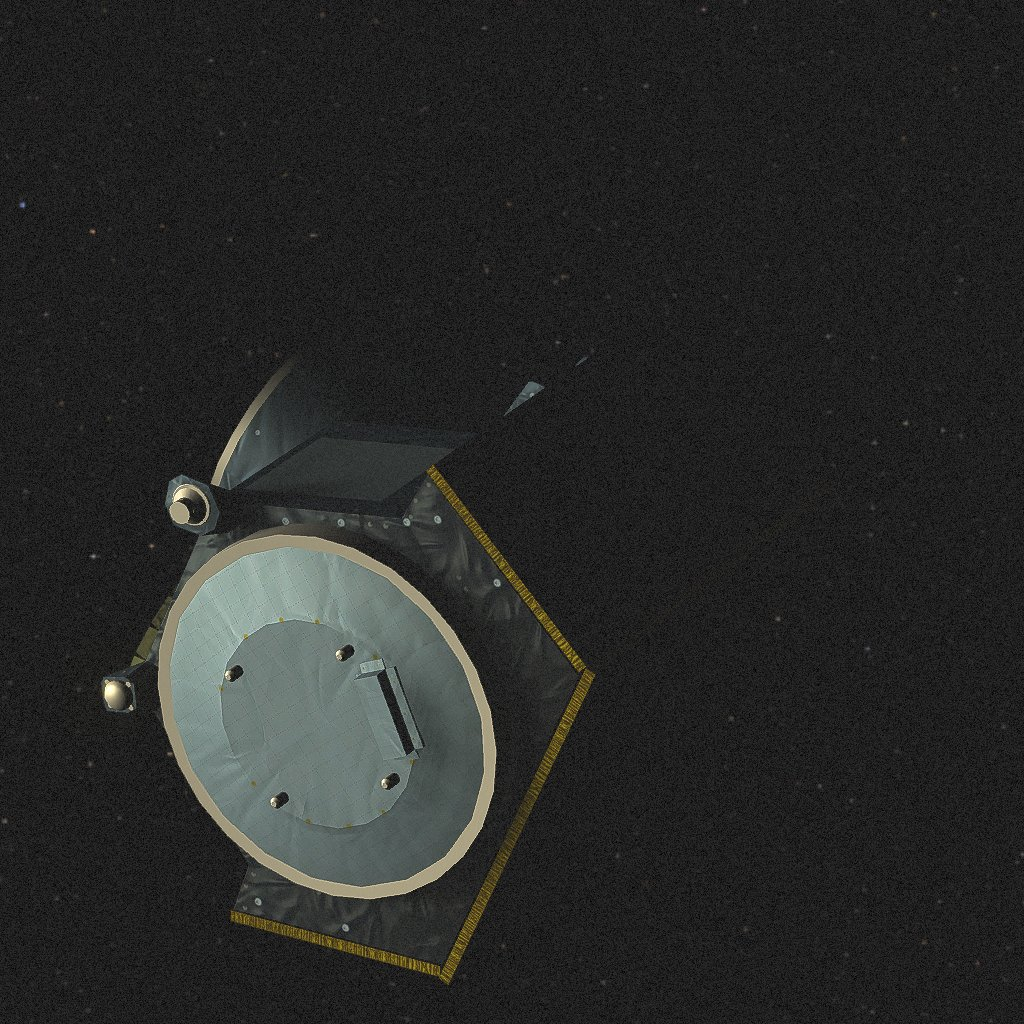cheops: (101, 333, 840, 985)
